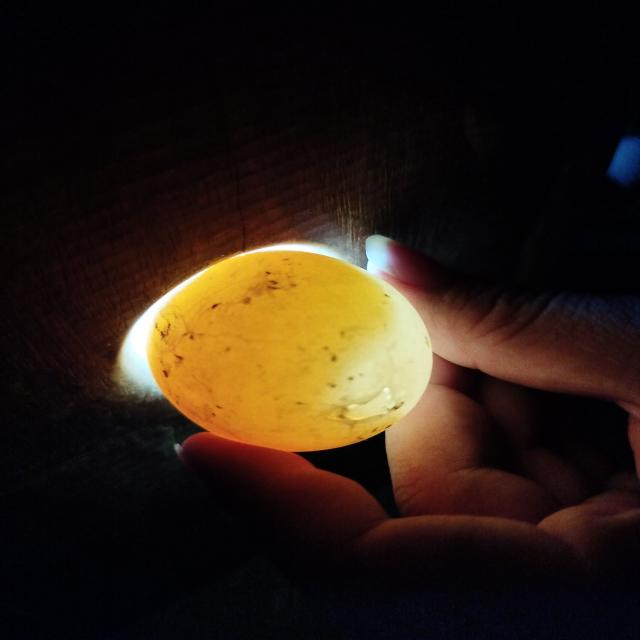Rachadura: (328, 387, 397, 421), (152, 315, 189, 351)
